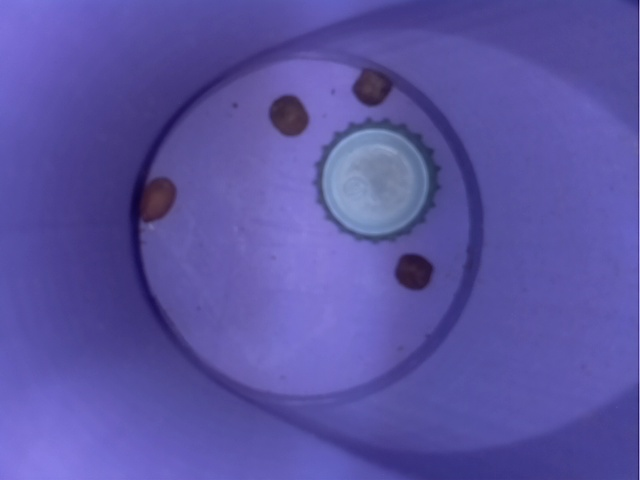capsule: (306, 104, 447, 246)
croquette: (261, 82, 321, 147), (133, 169, 185, 232), (381, 247, 447, 292), (339, 58, 397, 109)
